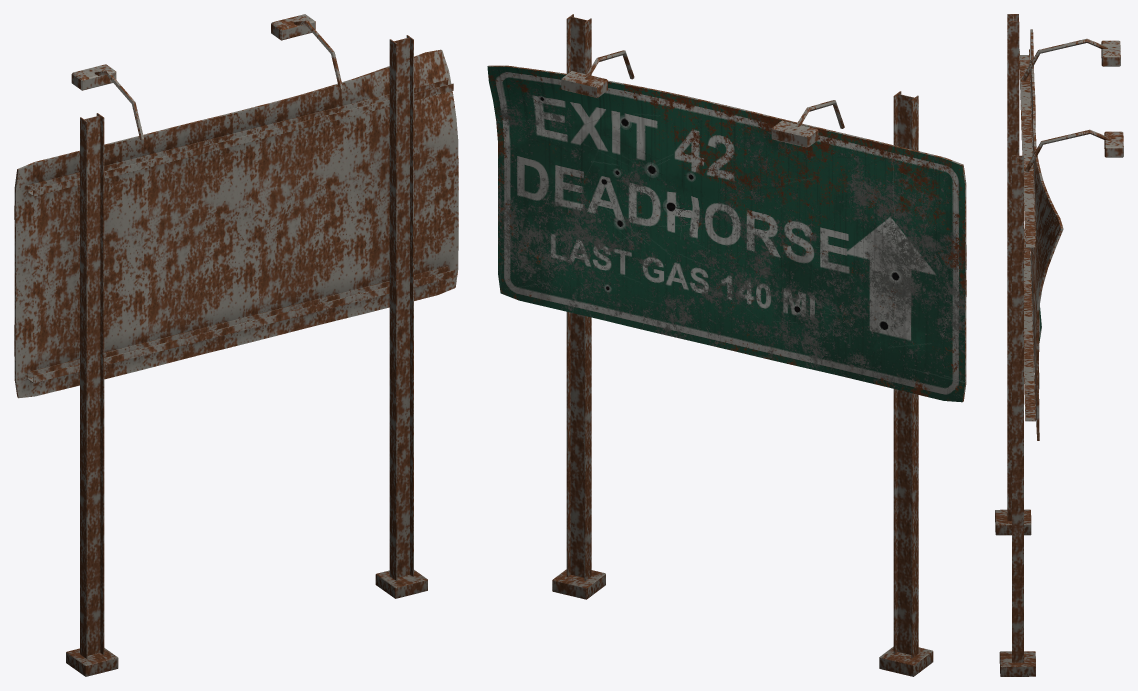
The model's file is sign_exit.glb.
The picture shows the model from 3 angles, left to right: view 1: azimuth 30°, elevation 25°; view 2: azimuth 150°, elevation 25°; view 3: azimuth 270°, elevation 25°; orthographic projection. The views are drawn at different scales.
Visible parts, largest first — view 1: sign_exit_galvanized; view 2: sign_exit_sign_exit, sign_exit_galvanized; view 3: sign_exit_galvanized.
Part boxes in pixels (x1,y1,x2,y2): sign_exit_galvanized: (14,14,458,676); sign_exit_sign_exit: (487,66,965,402); sign_exit_galvanized: (488,14,966,676); sign_exit_galvanized: (995,14,1123,676).
Bounding box in the file's own units: 4 × 4.74 × 1.08.
2 materials, 2 textured.
